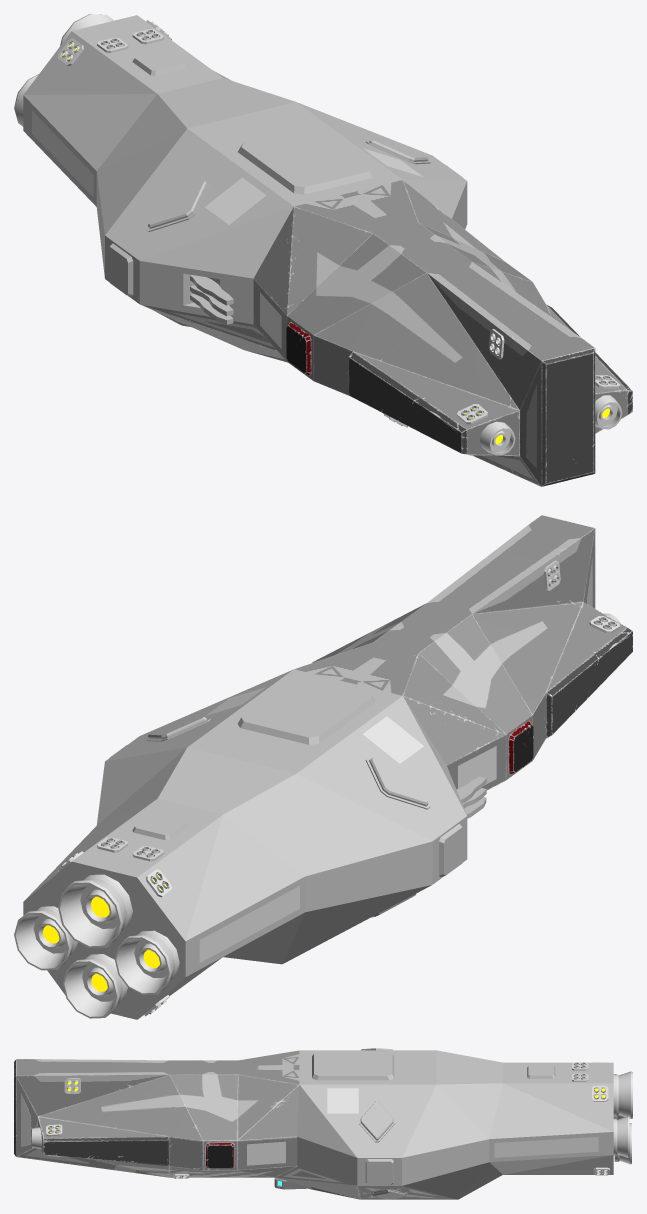
Rendered from Kaliare CL Visual.fbx.
3 renders of one model, top to bottom at view 1: azimuth 30°, elevation 25°; view 2: azimuth 150°, elevation 25°; view 3: azimuth 270°, elevation 25°, orthographic. The views are drawn at different scales.
Parts seen in each view (by area): view 1: Kaliare Bow, Kaliare Stern, Engines LOD0; view 2: Kaliare Stern, Kaliare Bow, Engines LOD0, Engine Glow; view 3: Kaliare Stern, Kaliare Bow, Engines LOD0.
Boxes of the visible parts, left/top/right/bottom form: Kaliare Bow: left=140, top=180, right=632, bottom=486; Kaliare Stern: left=23, top=15, right=467, bottom=324; Engines LOD0: left=14, top=14, right=622, bottom=455; Kaliare Stern: left=23, top=669, right=486, bottom=1019; Kaliare Bow: left=294, top=515, right=632, bottom=917; Engines LOD0: left=14, top=560, right=620, bottom=1018; Engine Glow: left=43, top=568, right=556, bottom=991; Kaliare Stern: left=297, top=1048, right=613, bottom=1199; Kaliare Bow: left=14, top=1050, right=456, bottom=1199; Engines LOD0: left=32, top=1062, right=632, bottom=1178.
Size of what is drawn, in the model's own units: 588 by 1458 by 316.
